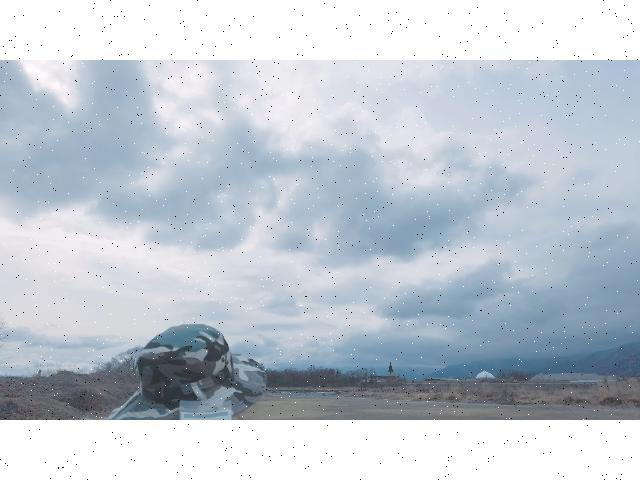Anti-Drone: (280, 300, 288, 310)
